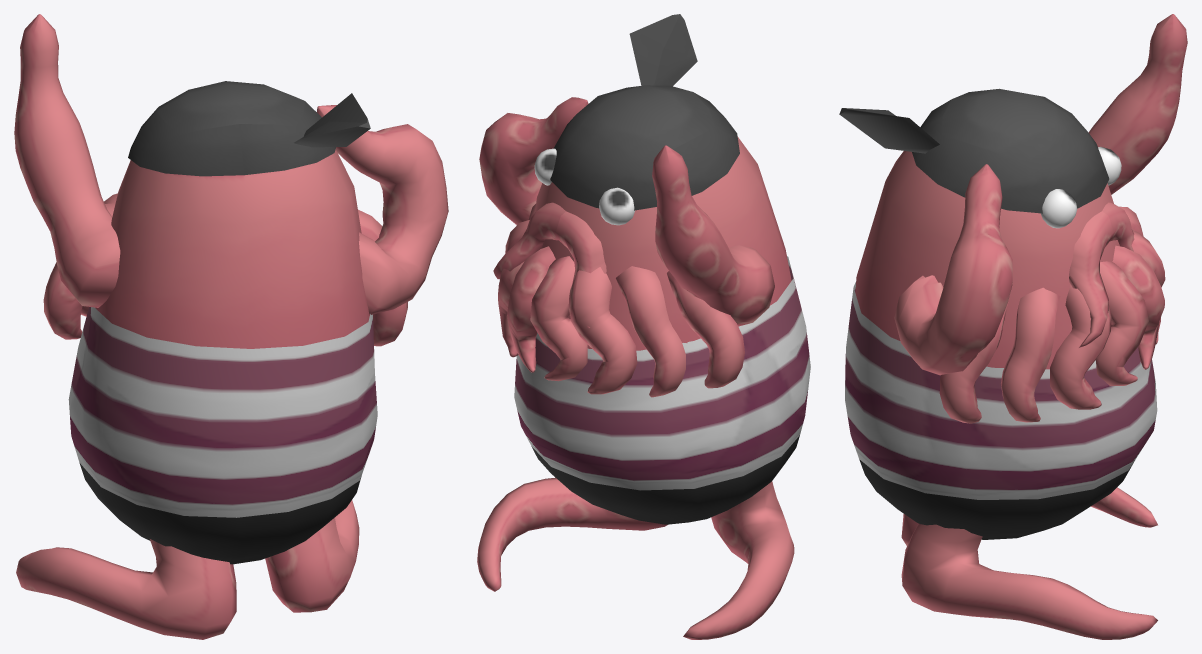
Rendered from tako_attack_06.fbx.
3 renders of one model, left to right at view 1: azimuth 30°, elevation 25°; view 2: azimuth 150°, elevation 25°; view 3: azimuth 270°, elevation 25°, orthographic. The views are drawn at different scales.
Parts seen in each view (by area): view 1: A_06; view 2: A_06; view 3: A_06.
Boxes of the visible parts, <box> form: A_06: <box>14,14,448,639</box>; A_06: <box>477,14,810,639</box>; A_06: <box>839,14,1187,639</box>.
Bounding box in the file's own units: 1.26 × 1.8 × 1.09.
Materials: 1 (1 with a texture image).
